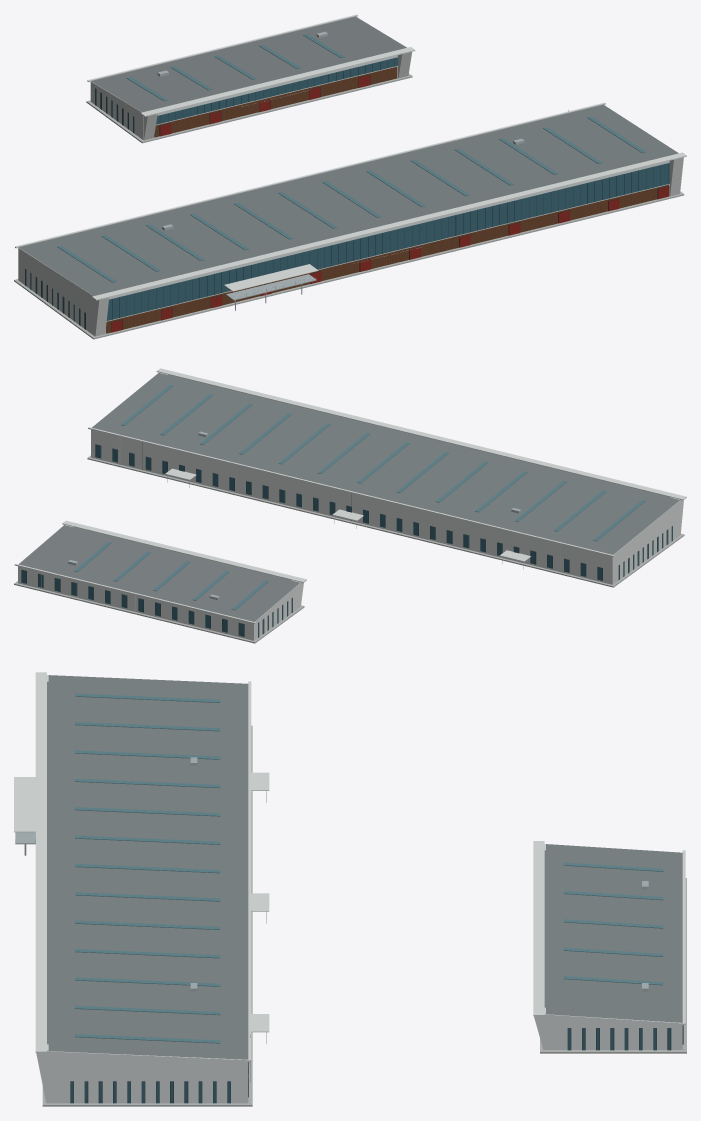
The model's file is steinwerder.glb.
3 views of the same model, one above another, from view 1: azimuth 30°, elevation 25°; view 2: azimuth 150°, elevation 25°; view 3: azimuth 270°, elevation 25° (orthographic). The views are drawn at different scales.
Visible parts, largest first — view 1: departure_hall_roof, arrival_hall_roof, departure_hall_glazed_facade, departure_hall_ground_floor, departure_hall_white_frame, departure_hall_shell, arrival_hall_ground_floor, arrival_hall_white_frame, foundation, arrival_hall_glazed_facade, arrival_hall_shell, arrival_foundation (+2 smaller); view 2: departure_hall_roof, departure_hall_shell, arrival_hall_roof, departure_hall_white_frame, arrival_hall_shell, departure_hall_rear_facade, foundation, arrival_hall_white_frame, arrival_hall_rear_facade, arrival_foundation, entry_canopies; view 3: departure_hall_roof, arrival_hall_roof, departure_hall_shell, departure_hall_white_frame, arrival_hall_shell, arrival_hall_white_frame, foundation, gallery_canopy, departure_hall_side_facades, entry_canopies, arrival_foundation, arrival_hall_side_facades.
Part boxes in pixels (bbox=[...]): departure_hall_roof: bbox=[18, 104, 678, 295]; arrival_hall_roof: bbox=[91, 16, 406, 112]; departure_hall_glazed_facade: bbox=[106, 163, 669, 320]; departure_hall_ground_floor: bbox=[106, 184, 669, 333]; departure_hall_white_frame: bbox=[15, 102, 686, 336]; departure_hall_shell: bbox=[18, 161, 669, 336]; arrival_hall_ground_floor: bbox=[154, 66, 397, 137]; arrival_hall_white_frame: bbox=[87, 14, 415, 140]; foundation: bbox=[14, 191, 684, 339]; arrival_hall_glazed_facade: bbox=[156, 57, 398, 124]; arrival_hall_shell: bbox=[90, 55, 397, 139]; arrival_foundation: bbox=[86, 73, 412, 143]; departure_hall_roof: bbox=[92, 373, 679, 554]; departure_hall_shell: bbox=[91, 429, 680, 584]; arrival_hall_roof: bbox=[18, 525, 300, 621]; departure_hall_white_frame: bbox=[88, 368, 686, 556]; arrival_hall_shell: bbox=[18, 566, 300, 640]; departure_hall_rear_facade: bbox=[95, 444, 602, 580]; foundation: bbox=[87, 455, 684, 587]; arrival_hall_white_frame: bbox=[14, 520, 306, 623]; arrival_hall_rear_facade: bbox=[21, 569, 244, 636]; arrival_foundation: bbox=[14, 581, 304, 643]; entry_canopies: bbox=[165, 468, 531, 569]; departure_hall_roof: bbox=[47, 675, 248, 1059]; arrival_hall_roof: bbox=[544, 844, 682, 1022]; departure_hall_shell: bbox=[47, 1051, 248, 1103]; departure_hall_white_frame: bbox=[35, 672, 251, 1102]; arrival_hall_shell: bbox=[544, 1014, 682, 1049]; arrival_hall_white_frame: bbox=[533, 841, 685, 1049]; foundation: bbox=[42, 725, 252, 1106]; gallery_canopy: bbox=[14, 777, 35, 832]; departure_hall_side_facades: bbox=[70, 1081, 230, 1103]; entry_canopies: bbox=[251, 772, 269, 1043]; arrival_foundation: bbox=[540, 878, 686, 1053]; arrival_hall_side_facades: bbox=[567, 1028, 671, 1050].
Size of the model in its own units: 214 by 14.45 by 160.
Materials: 12 (3 with a texture image).
